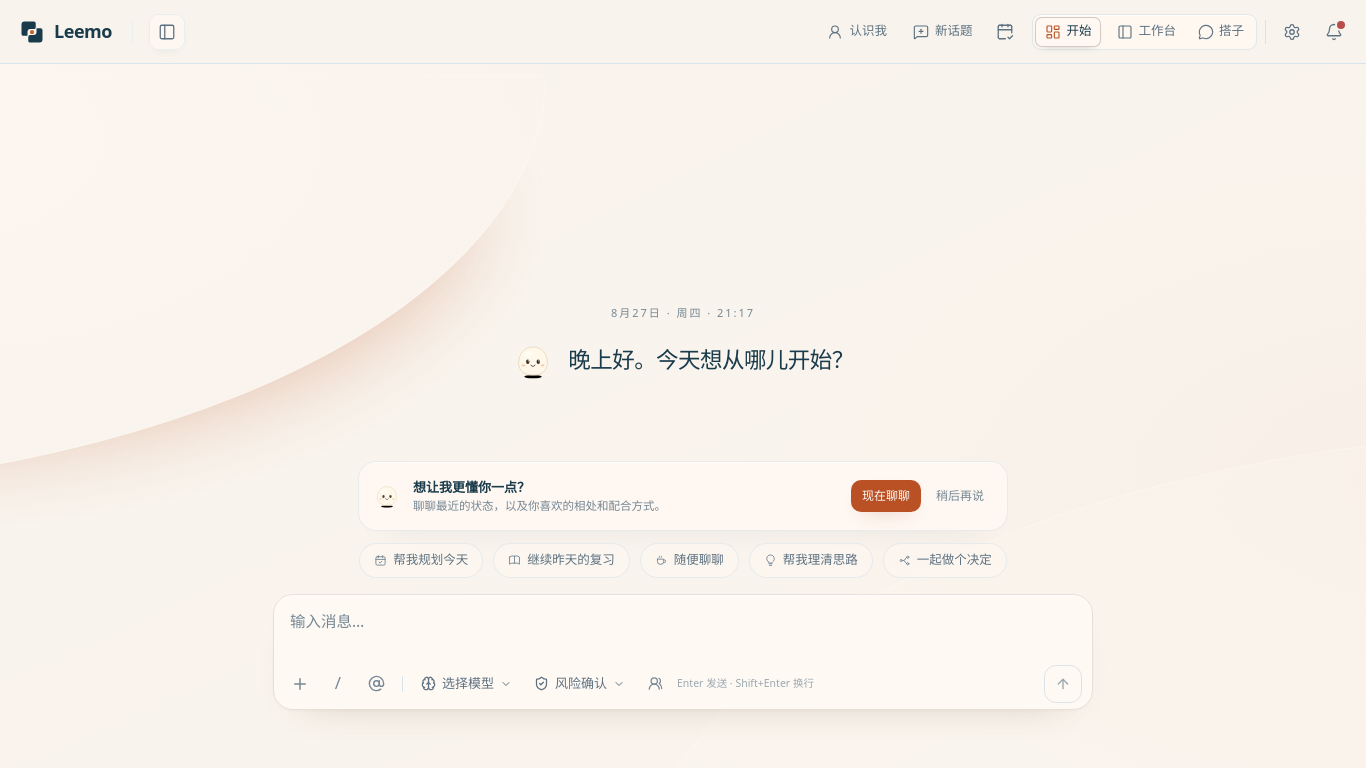
Test case: BuddyShell › keeps the configured default model actionable before the first conversation exists
Click the button with aria-label "切换模型" at (466, 684), box top-left (413, 668), bottom-right (520, 700)
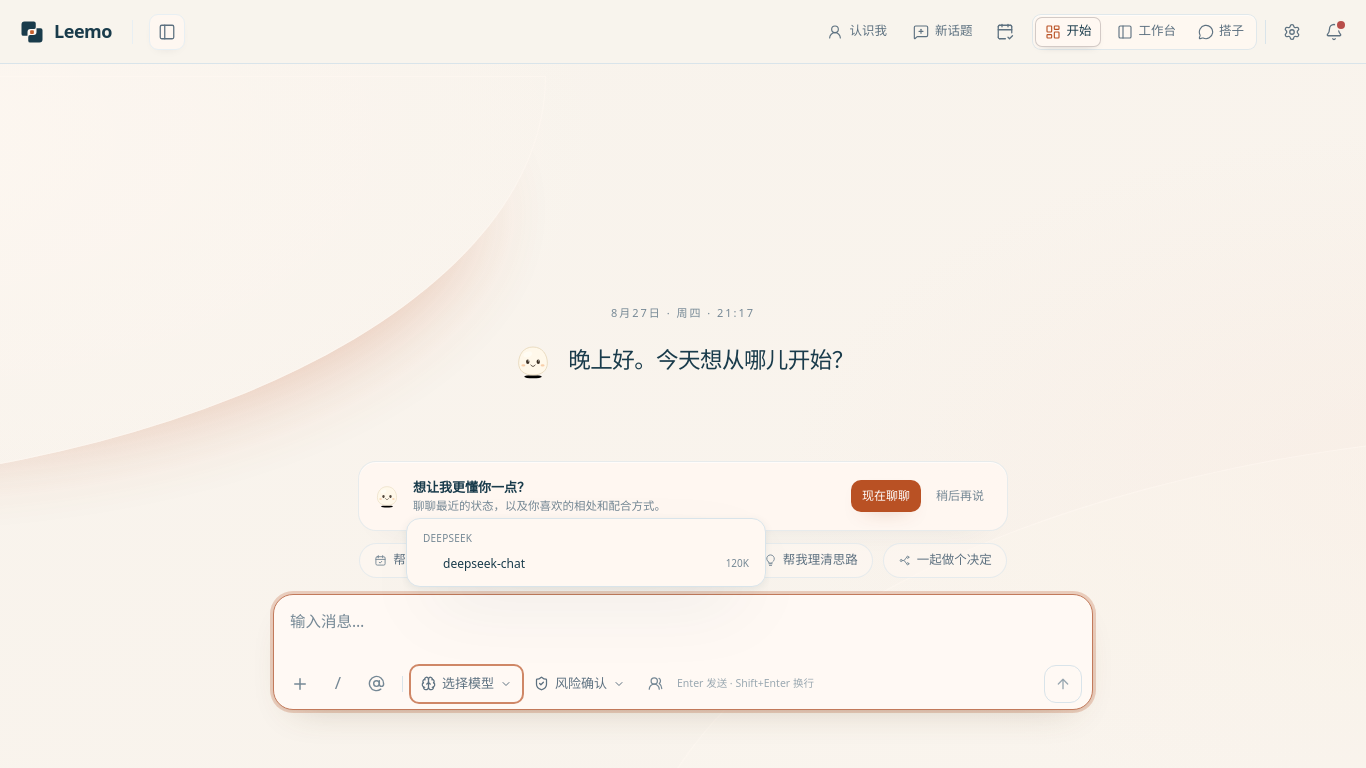
Click the button "deepseek-chat 120K" at (484, 563), box top-left (415, 550), bottom-right (757, 578)
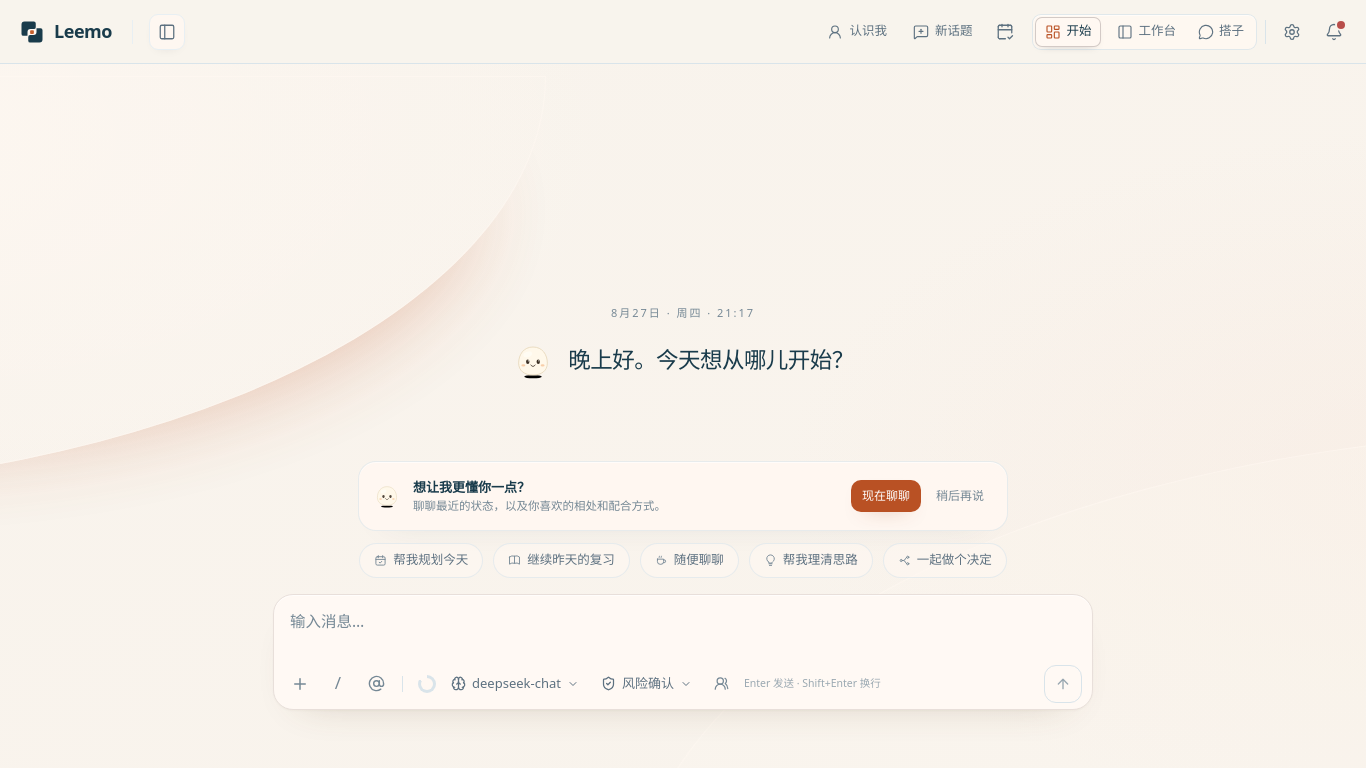
Expected: the button with aria-label "切换模型" reads "deepseek-chat", top-left (443, 668), bottom-right (587, 700)
